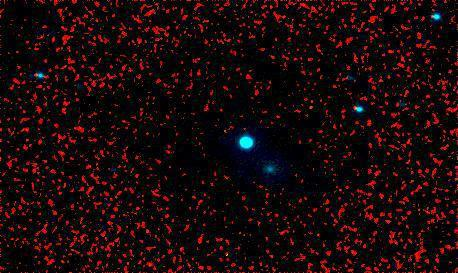star: (94, 155, 124, 185)
